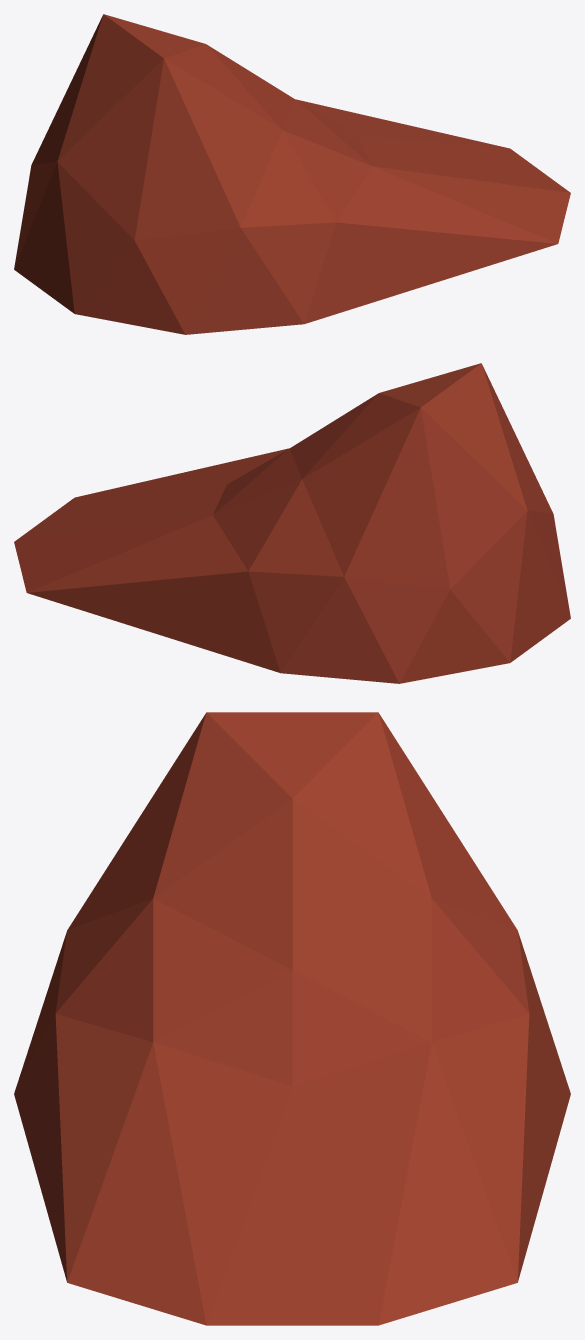
Rendered from stenen16.fbx.
The picture shows the model from 3 angles, top to bottom: view 1: azimuth 30°, elevation 25°; view 2: azimuth 150°, elevation 25°; view 3: azimuth 270°, elevation 25°; orthographic projection. The views are drawn at different scales.
Visible parts, largest first — view 1: Icosphere.006; view 2: Icosphere.006; view 3: Icosphere.006.
Boxes of the visible parts, bbox=[...] form: Icosphere.006: bbox=[14, 14, 570, 334]; Icosphere.006: bbox=[14, 363, 570, 683]; Icosphere.006: bbox=[14, 712, 570, 1325].
Size of the model in its own units: 292 by 131 by 200.
